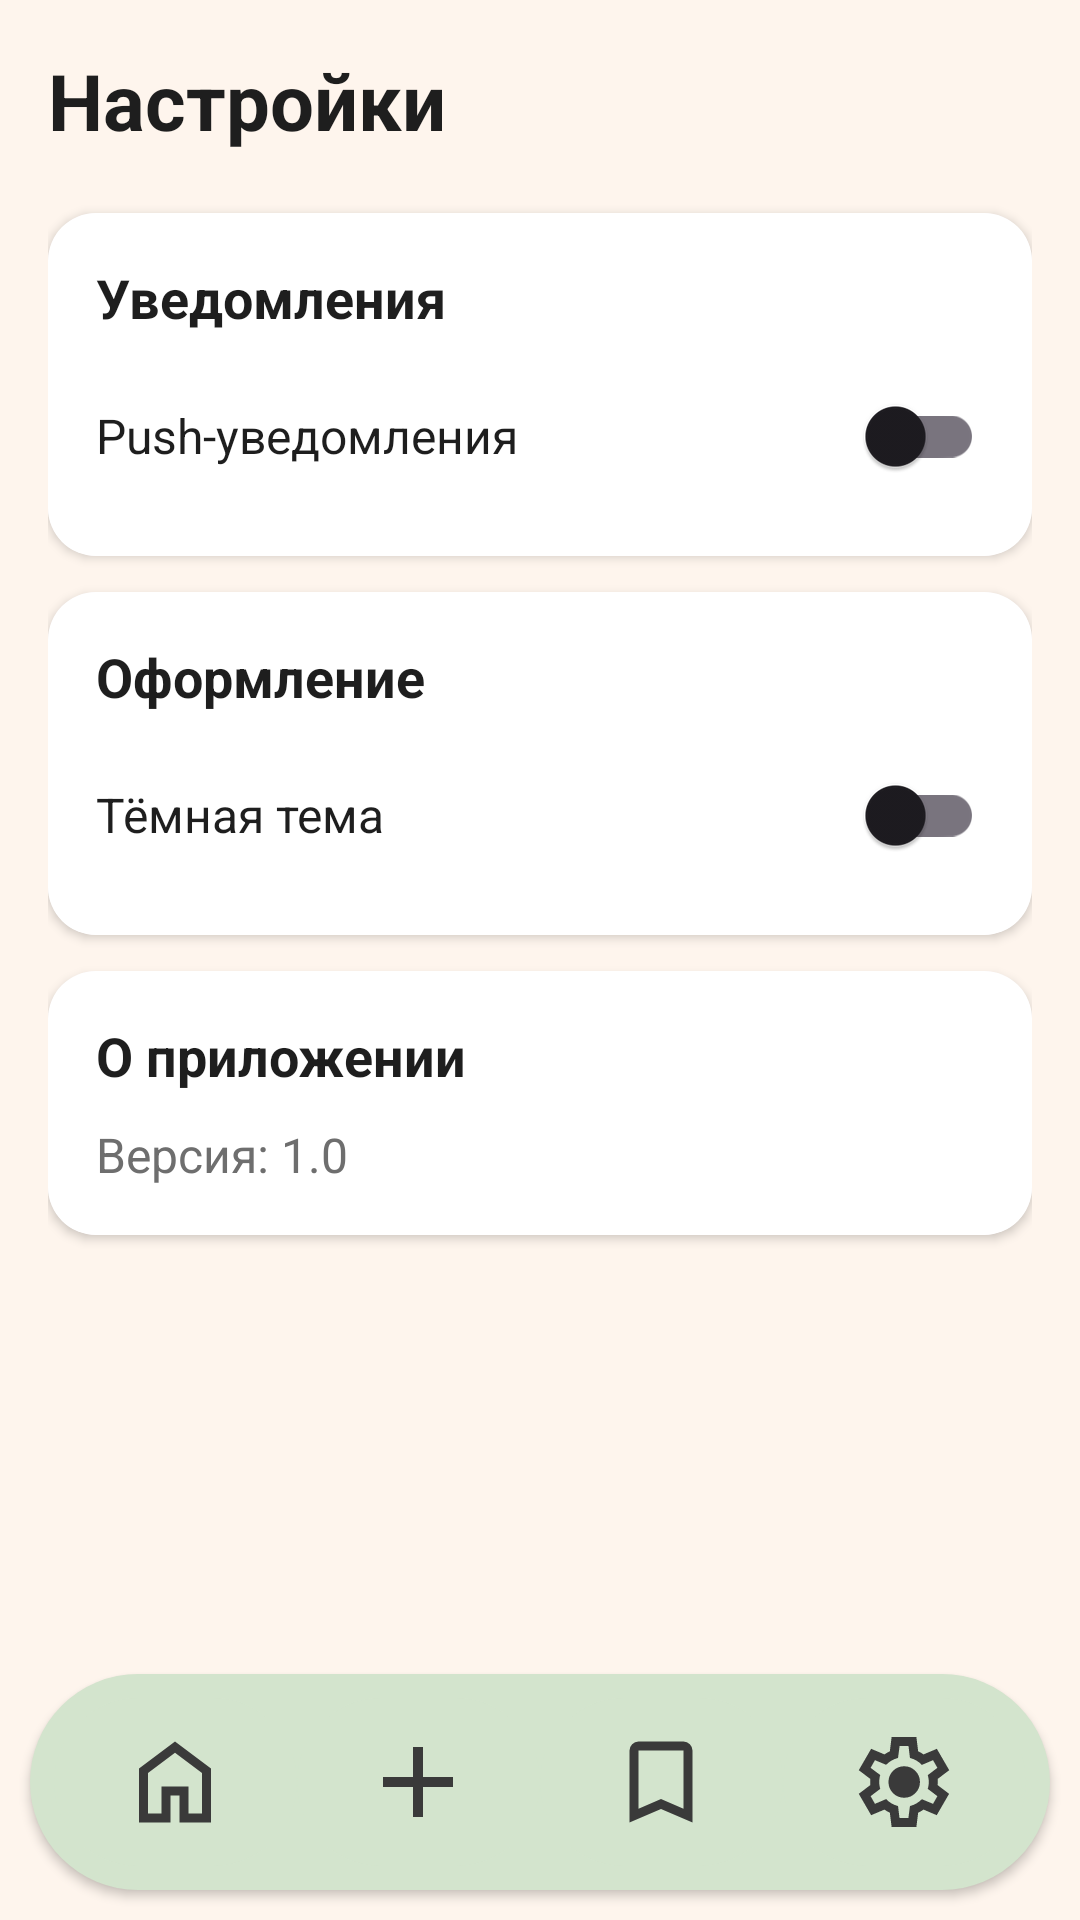

Screen size 1080px×1920px. Icon name, then its box in pixels as (x1, y1, x2, y2):
add: (383, 1747, 453, 1817)
bookmark: (629, 1741, 693, 1823)
home: (139, 1741, 211, 1823)
settings: (859, 1737, 949, 1827)
